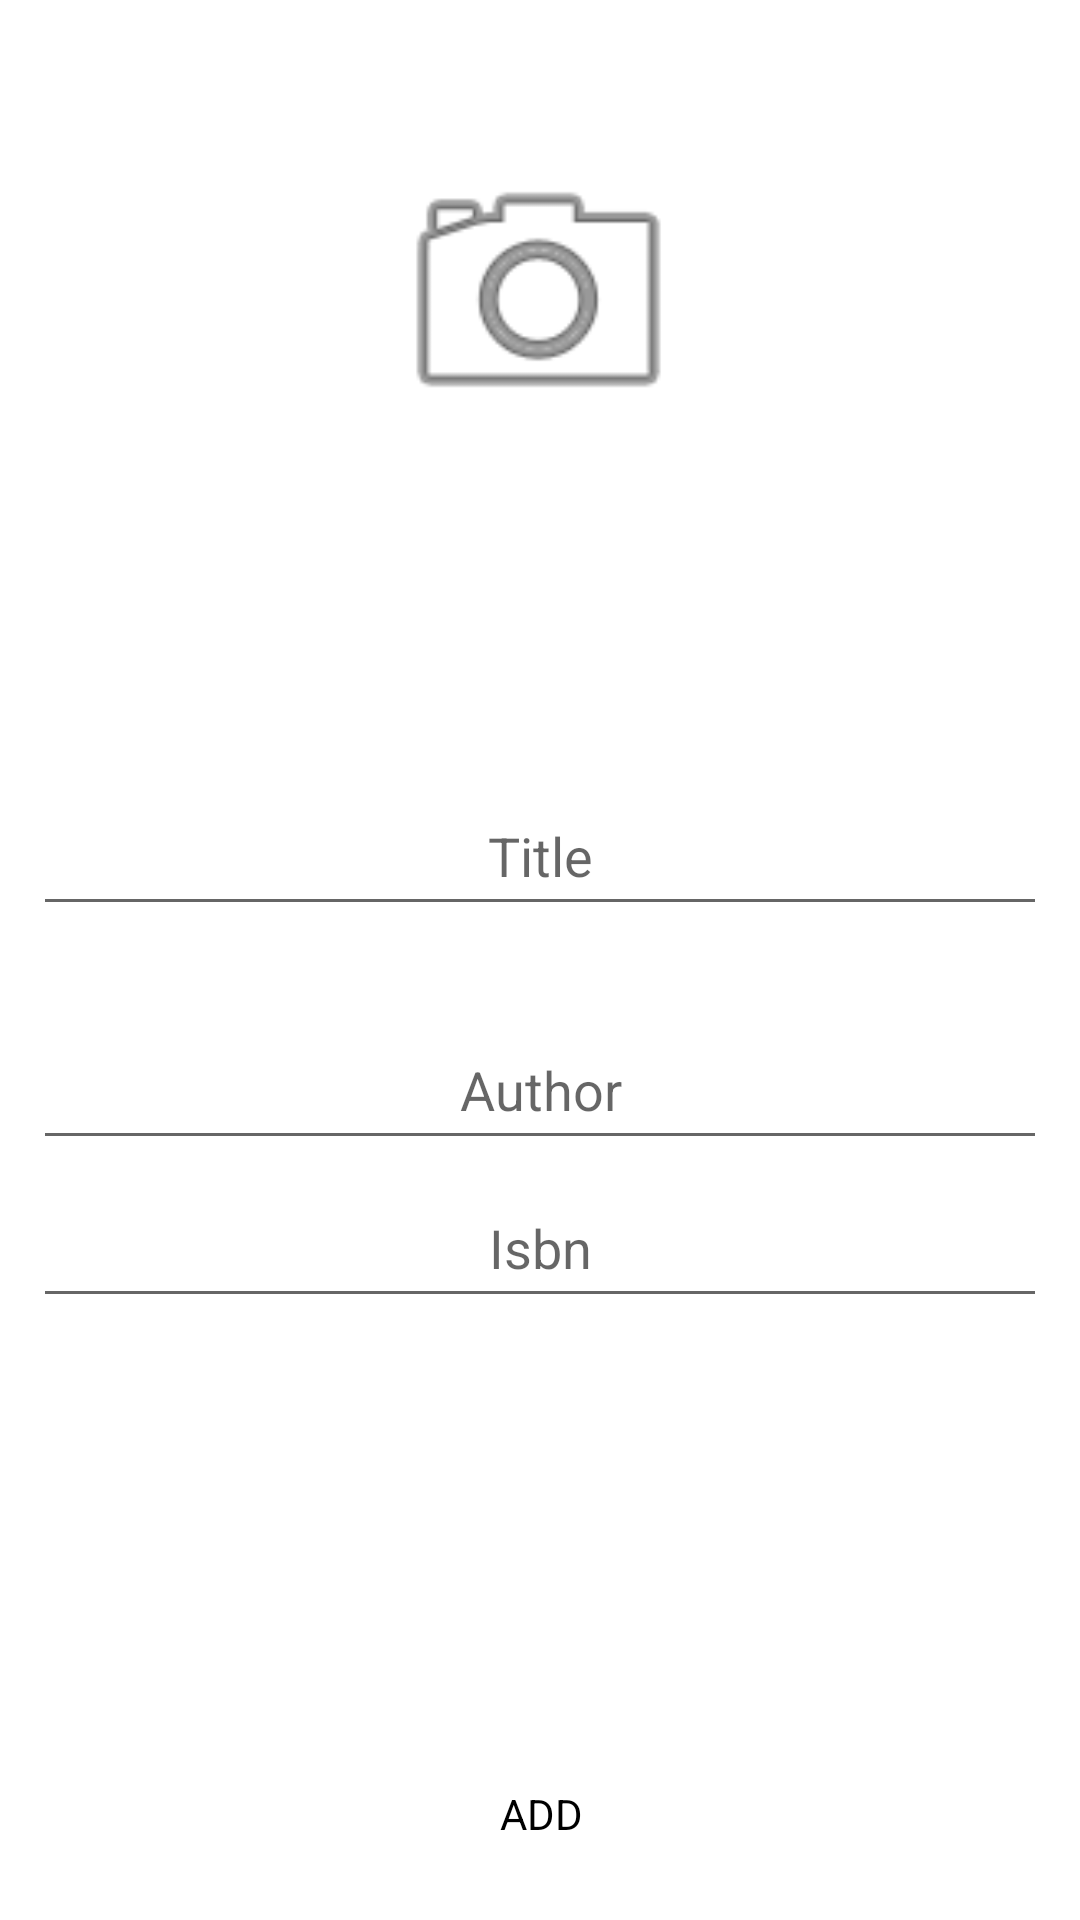

Screen size 1080 x 1920. Icon name, then its center in pixels as [x,y]:
camera: [538,289]
